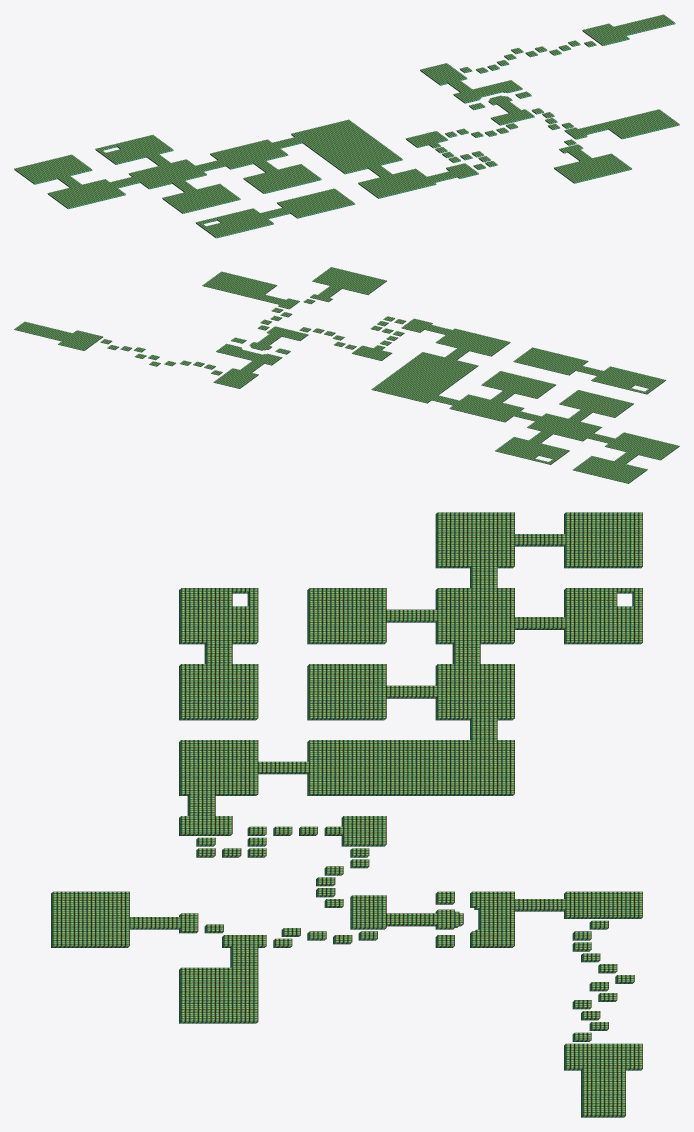
File: Floor1.dae
3 renders of one model, top to bottom at view 1: azimuth 30°, elevation 25°; view 2: azimuth 150°, elevation 25°; view 3: azimuth 270°, elevation 25°, orthographic. The views are drawn at different scales.
Visible parts, largest first — view 1: Sprite-0004.png_1_0; view 2: Sprite-0004.png_1_0; view 3: Sprite-0004.png_1_0.
Boxes of the visible parts, left/top/right/bottom form: Sprite-0004.png_1_0: left=14, top=14, right=679, bottom=238; Sprite-0004.png_1_0: left=14, top=267, right=679, bottom=483; Sprite-0004.png_1_0: left=51, top=512, right=642, bottom=1117.
Bounding box in the file's own units: 334 × 139 × 0.5.
